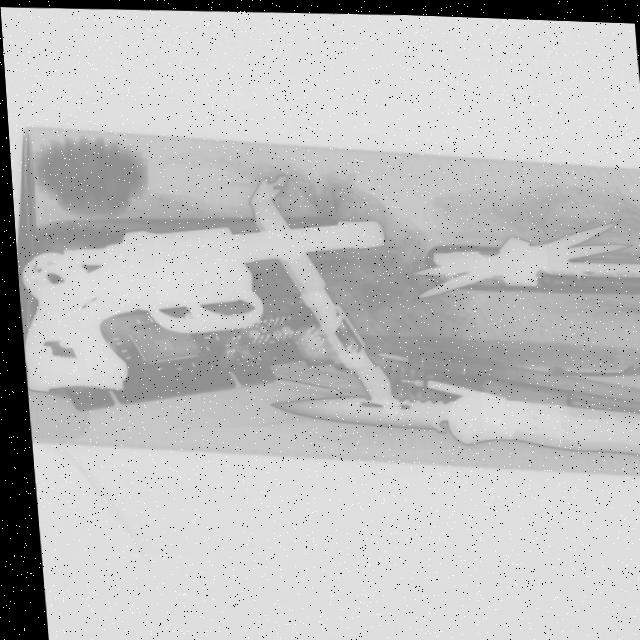knife: (264, 378, 640, 469)
pistol: (11, 205, 391, 402)
